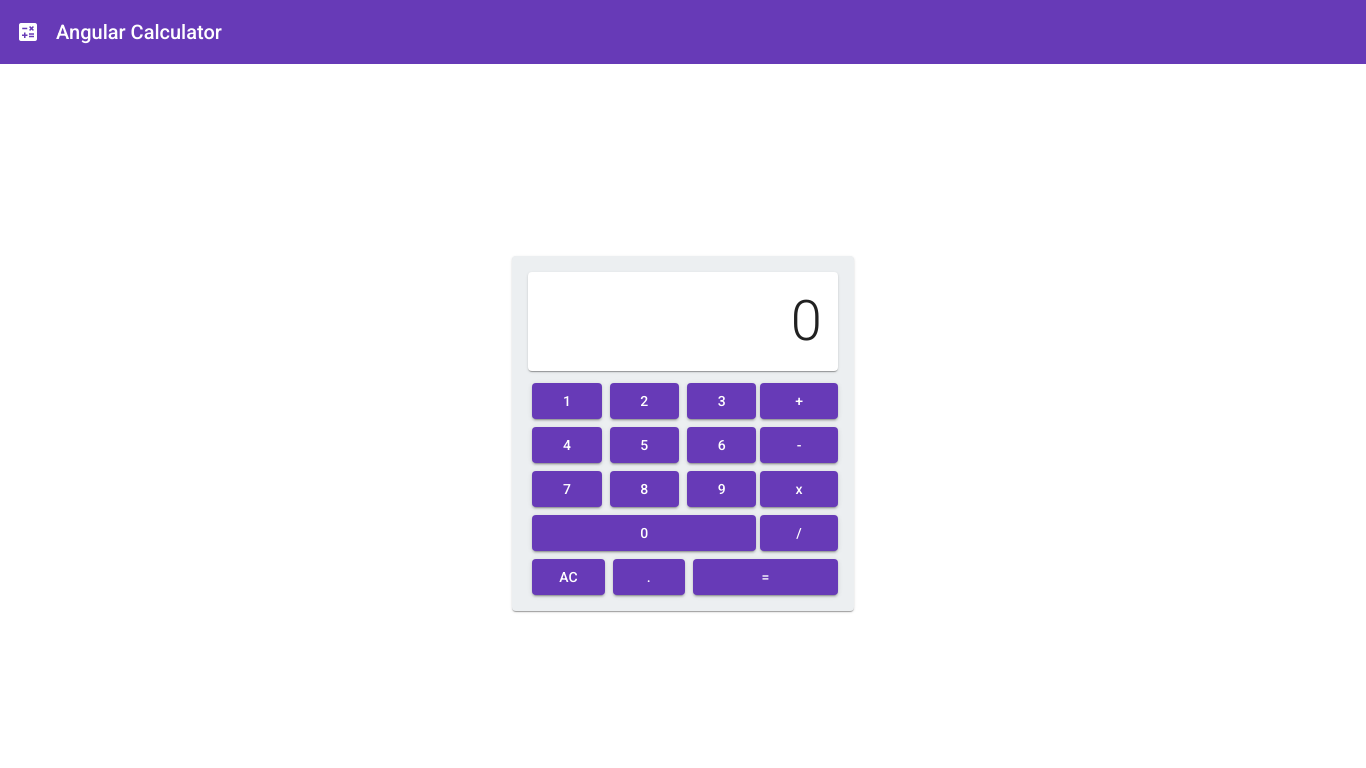
Test: Test Application › Display SHOULD return value to 0 WHEN some operation button clicked
The width and height of the screenshot is (1366, 768).
Click the button "2". click: (645, 401)
box: [610, 383, 679, 419]
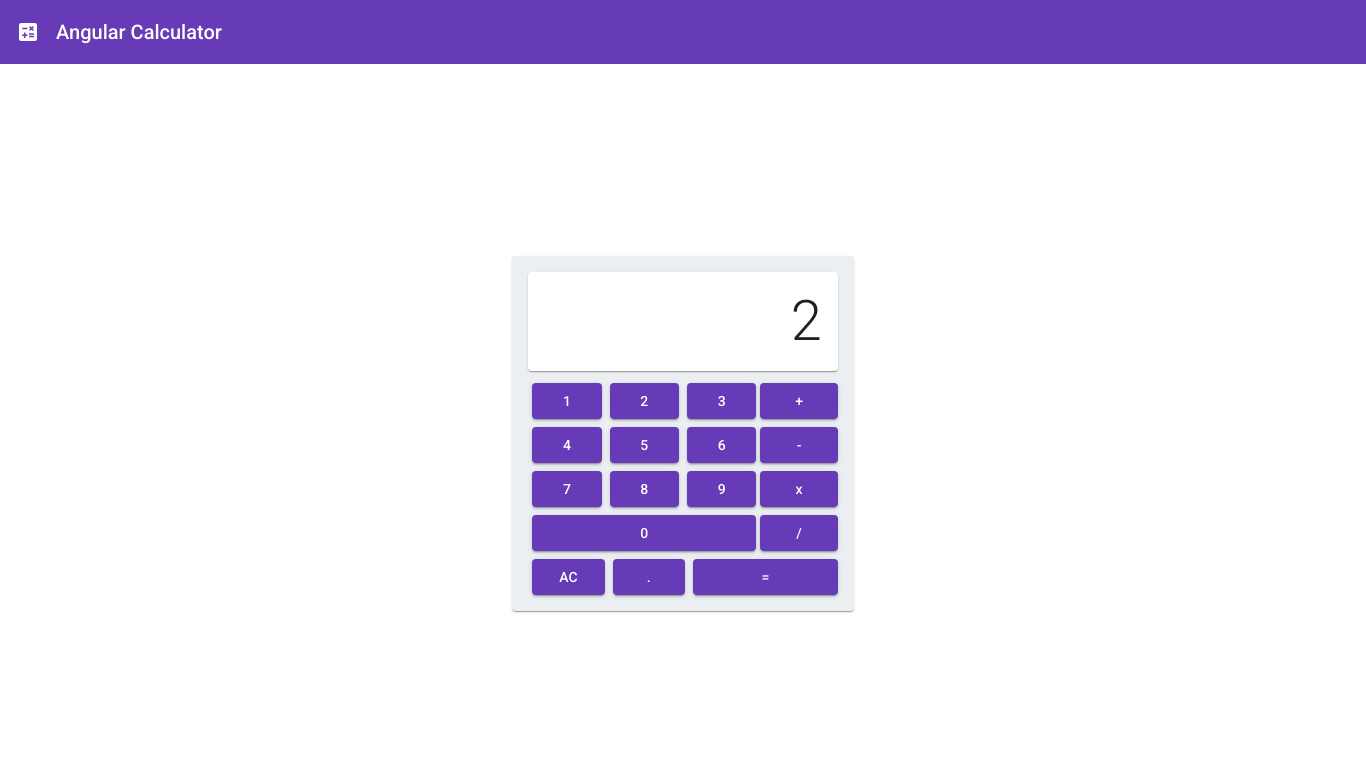
Click the button "+". click: (799, 401)
box: [760, 383, 837, 419]
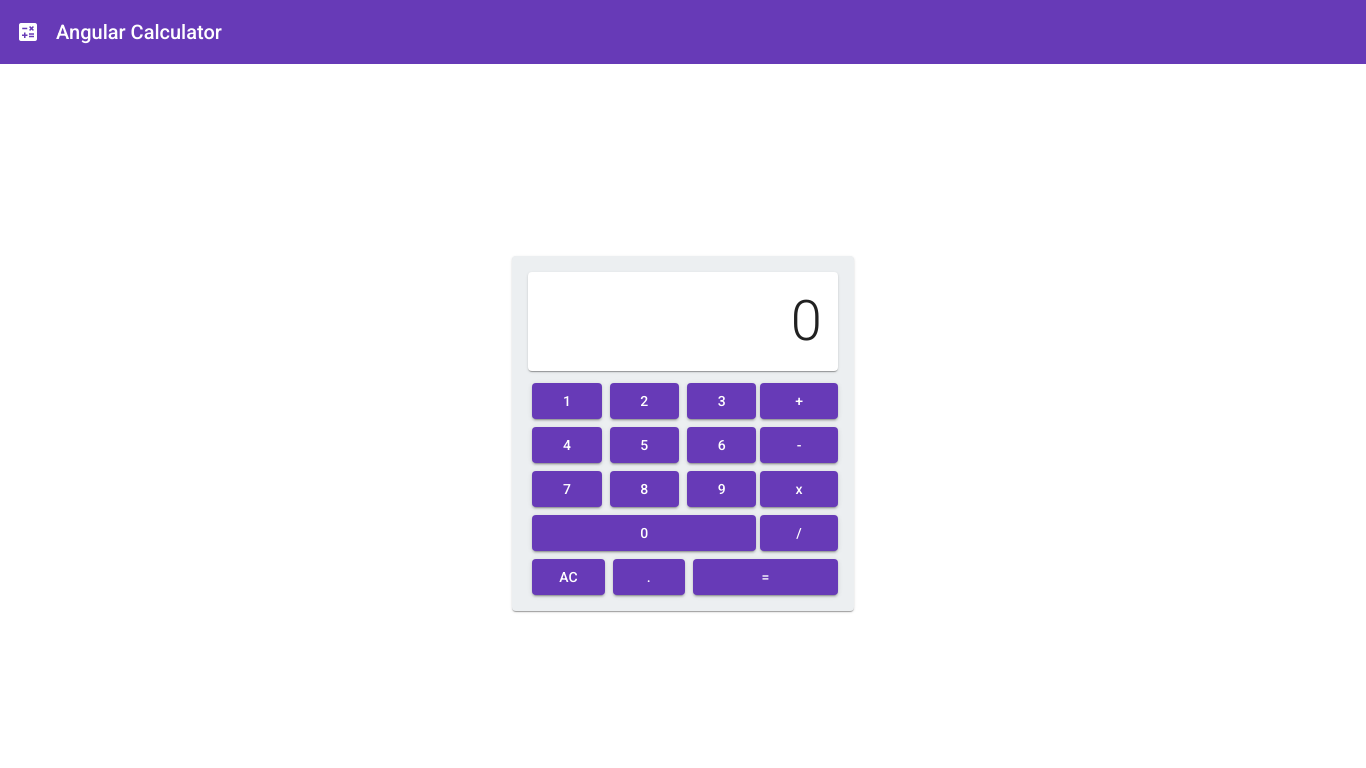
expect the text "0" is shown: met, box [791, 288, 822, 354]
